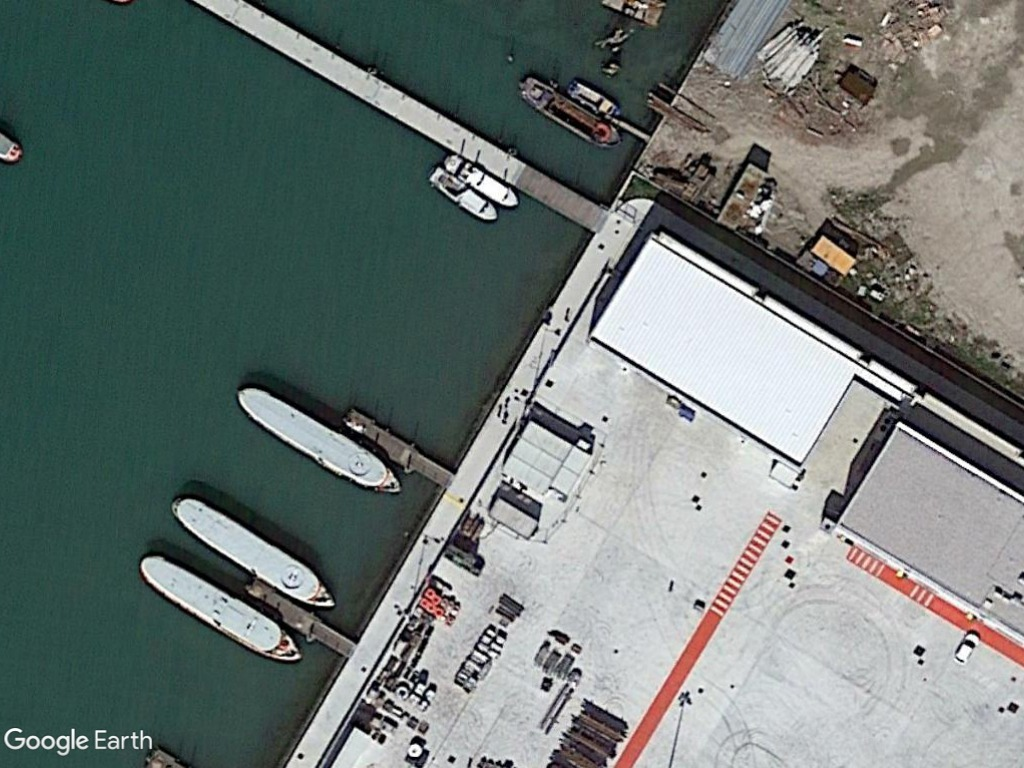boat: (166, 488, 339, 613), (231, 379, 405, 497), (137, 550, 303, 666), (515, 69, 624, 152), (438, 146, 522, 212), (424, 164, 502, 224)
